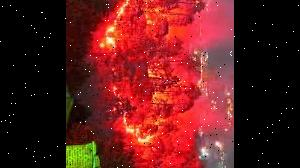fire: (94, 0, 185, 148)
